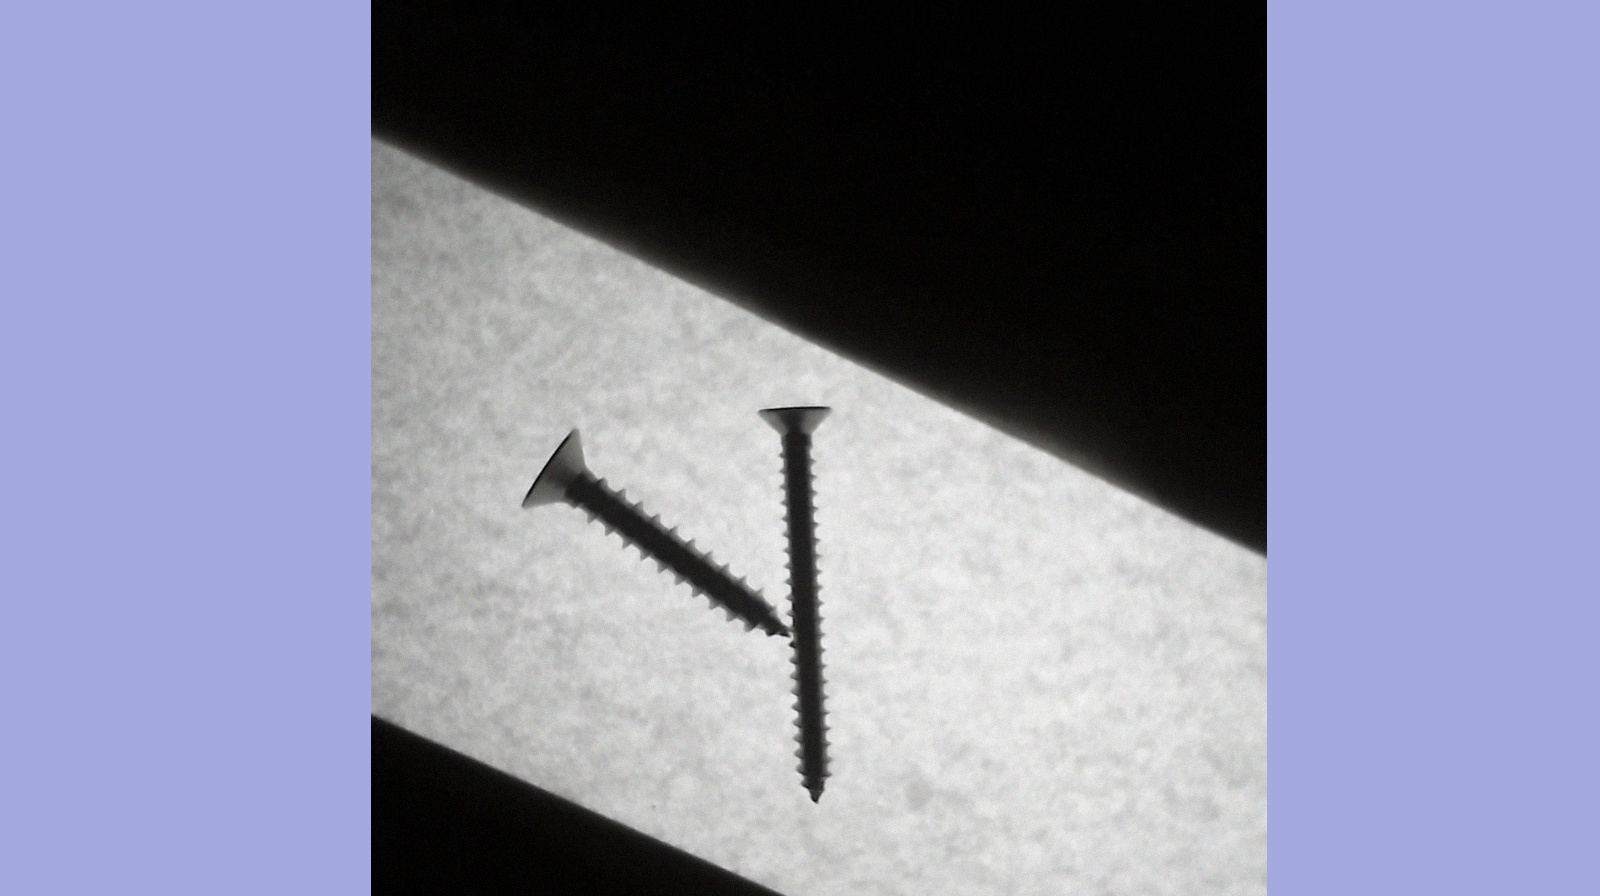S001: (520, 422, 796, 640)
S002: (754, 386, 840, 801)
